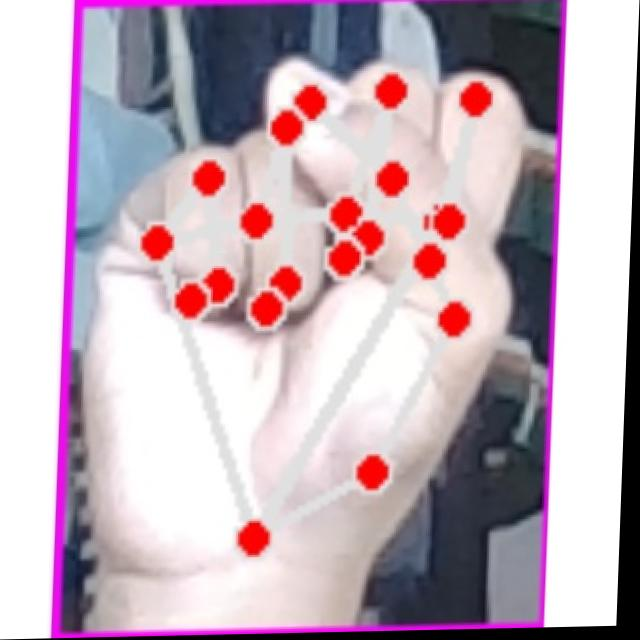S: (78, 44, 538, 580)
